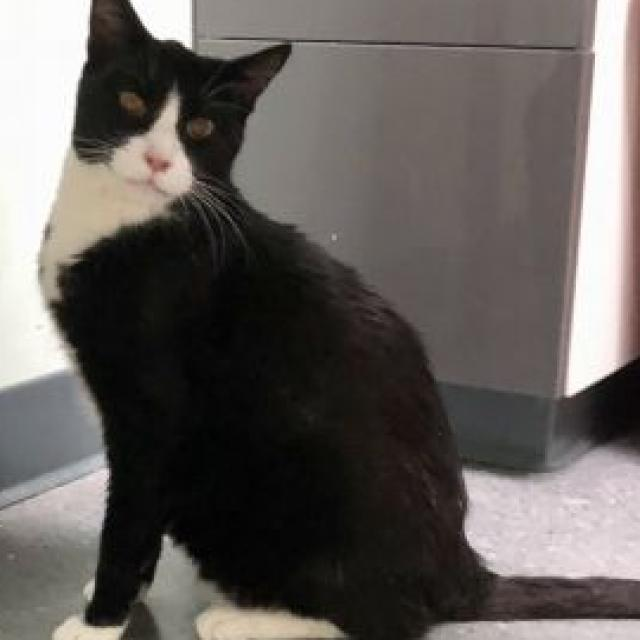Tuxedo: (31, 0, 640, 640)
